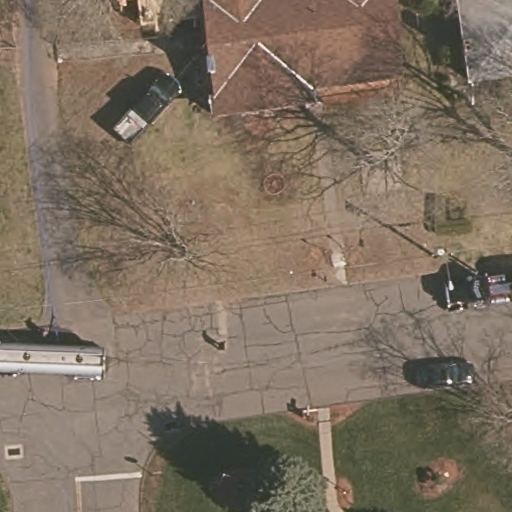DT: (432, 236, 479, 275)
